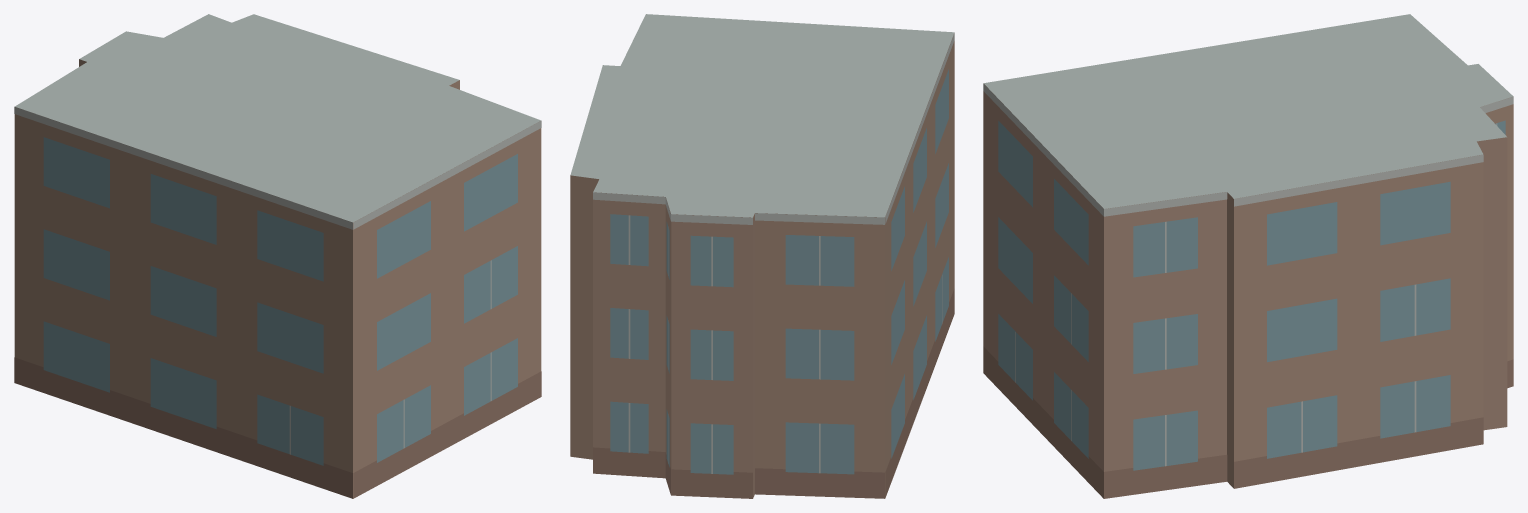
Rendered from survey-upis-32834295.glb.
3 views of the same model, side by side, from view 1: azimuth 30°, elevation 25°; view 2: azimuth 150°, elevation 25°; view 3: azimuth 270°, elevation 25° (orthographic). The views are drawn at different scales.
Parts seen in each view (by area): view 1: survey-upis-32834295.tmp; view 2: survey-upis-32834295.tmp; view 3: survey-upis-32834295.tmp.
Boxes of the visible parts, x1,y1,x2,y2 form: survey-upis-32834295.tmp: [14, 14, 541, 498]; survey-upis-32834295.tmp: [570, 14, 954, 498]; survey-upis-32834295.tmp: [983, 14, 1513, 498].
Size of the model in its own units: 13.21 by 9.15 by 15.18.
